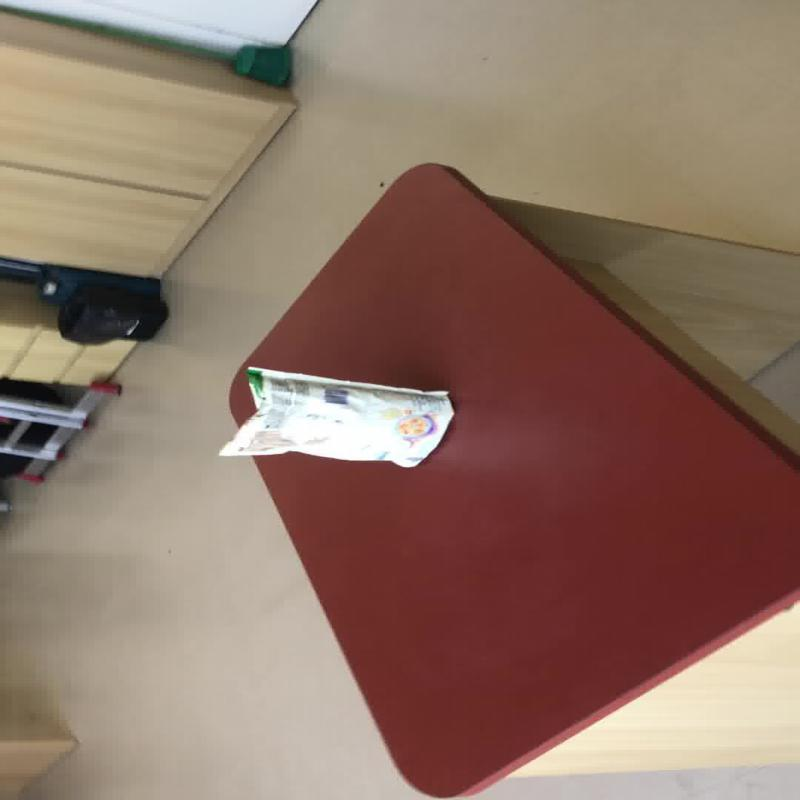corn flakes: (218, 161, 798, 796), (216, 364, 454, 468)
